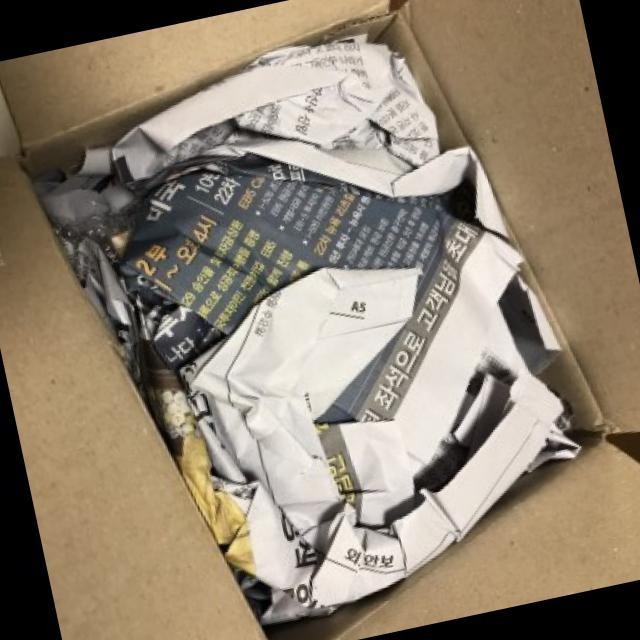reuseable_paper: (66, 8, 602, 640)
